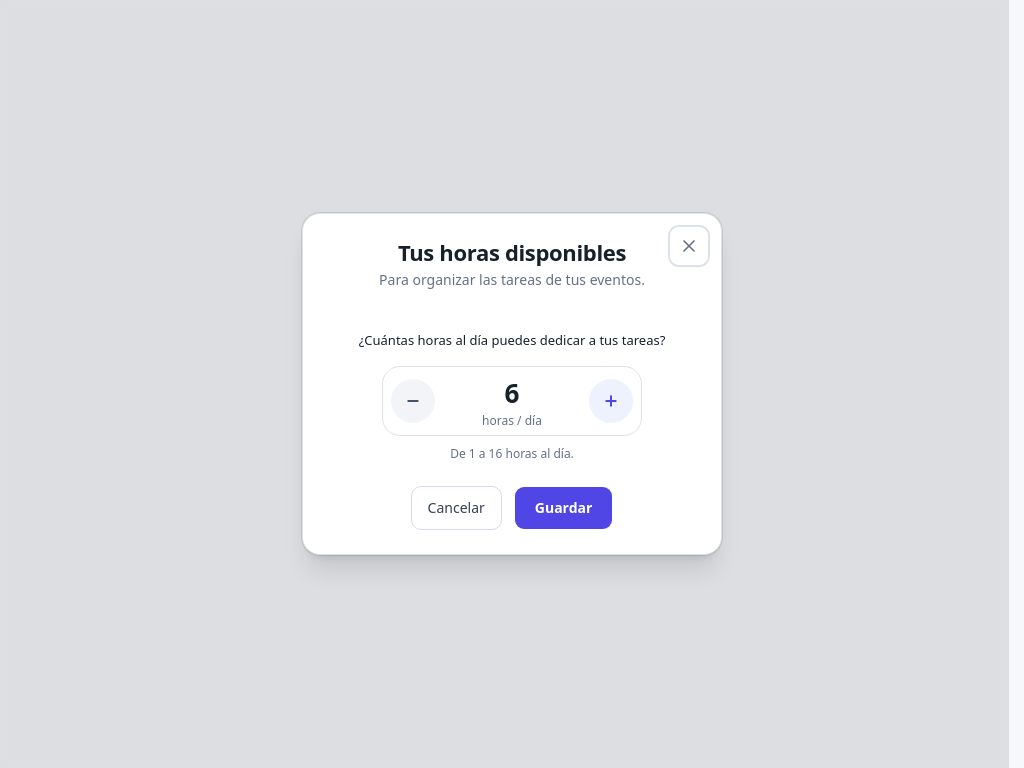
Test: DailyLimitDialog › permite aumentar y disminuir las horas con los botones del stepper
Expected: the number field holds "6", [439,375,585,411]
Click the button named "Aumentar horas" at (611, 401), box [589,379,633,423]
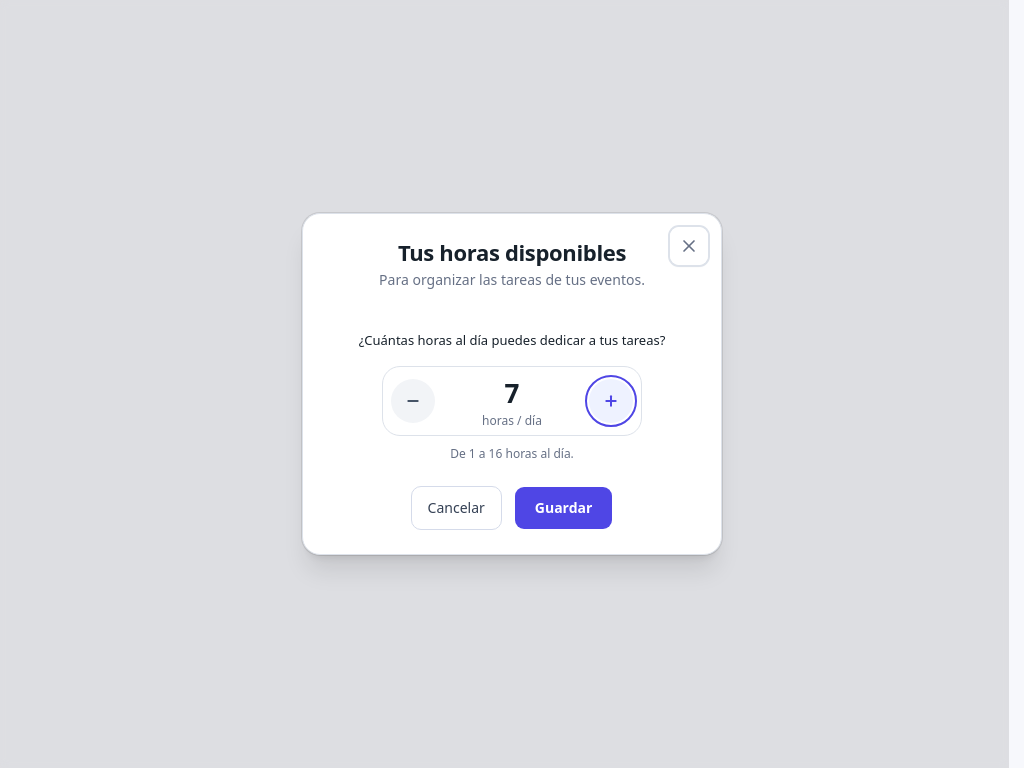
Expected: the number field holds "7", [439,375,585,411]
Click the button named "Disminuir horas" at (413, 401), box [391,379,435,423]
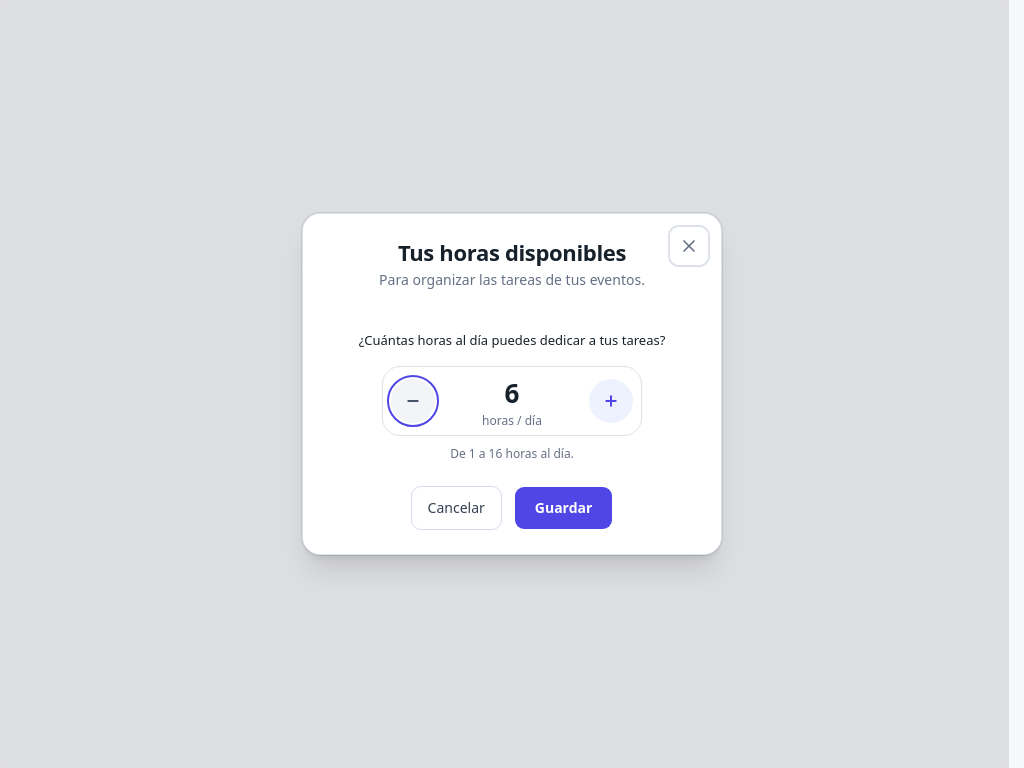
Expected: the number field holds "6", [439,375,585,411]
Click the button named "Disminuir horas" at (413, 401), box [391,379,435,423]
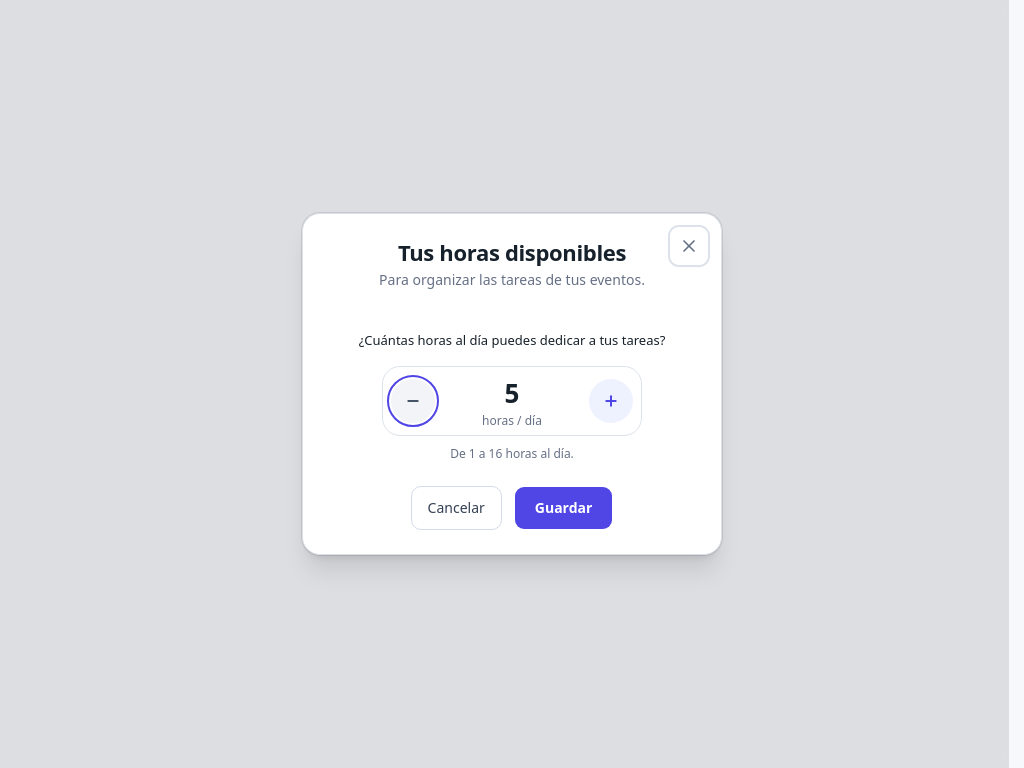
Expected: the number field holds "5", [439,375,585,411]
